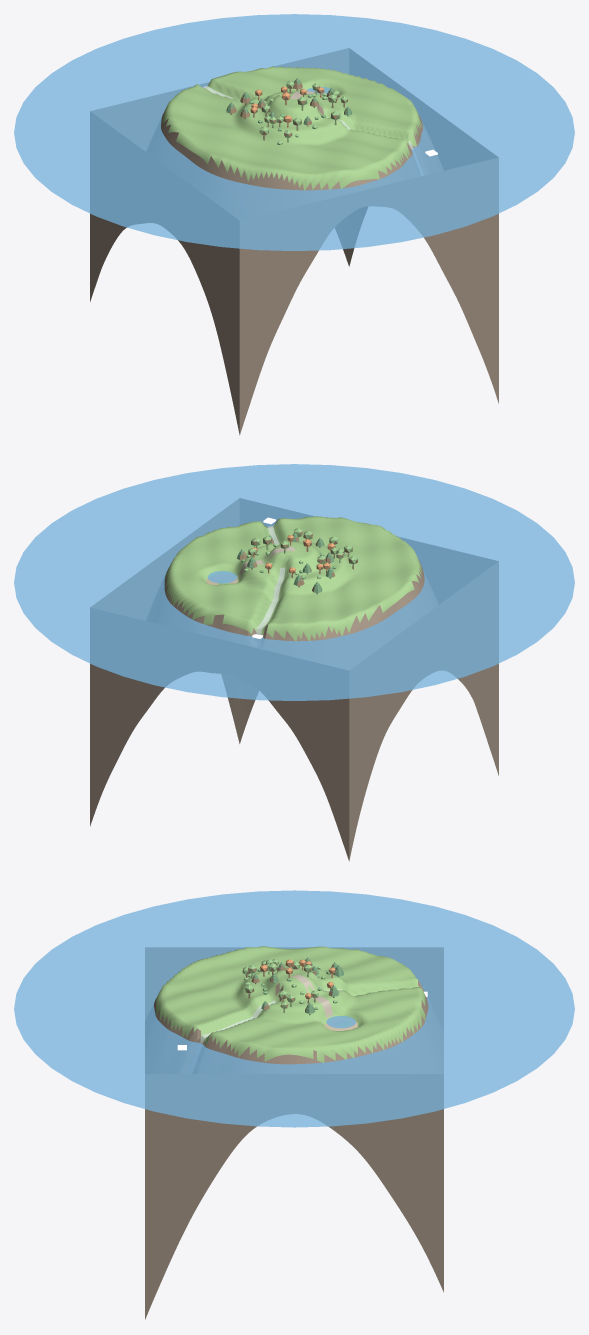
File: island_base.glb
3 views of the same model, one above another, from view 1: azimuth 30°, elevation 25°; view 2: azimuth 150°, elevation 25°; view 3: azimuth 270°, elevation 25° (orthographic).
Visible parts, largest first — view 1: ISLB_Sea, ISLB_Terrain; view 2: ISLB_Sea, ISLB_Terrain; view 3: ISLB_Sea, ISLB_Terrain.
Part boxes in pixels (box(x1,y1,x2,y2)): ISLB_Sea: box(14, 14, 574, 250); ISLB_Terrain: box(90, 48, 498, 435); ISLB_Sea: box(14, 464, 574, 700); ISLB_Terrain: box(90, 498, 498, 861); ISLB_Sea: box(14, 890, 574, 1127); ISLB_Terrain: box(145, 946, 443, 1319).
Size of the model in its own units: 120 by 69.44 by 120.
